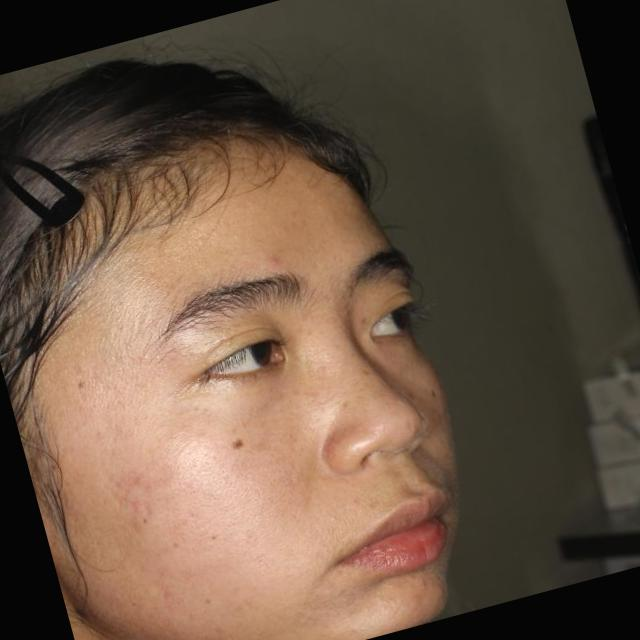acne: (252, 248, 288, 276)
